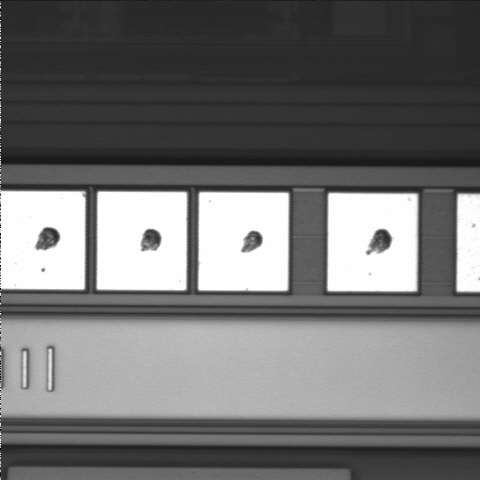pad: (198, 192, 289, 291), (97, 192, 187, 290), (328, 193, 417, 291)
